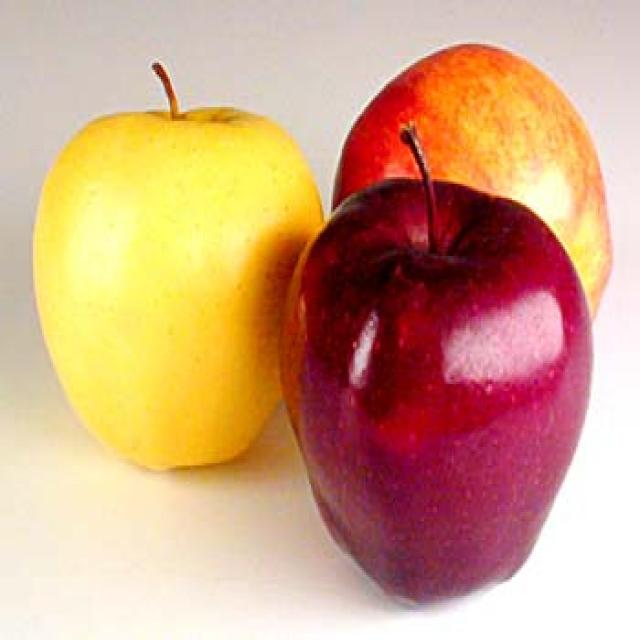apple: (283, 143, 589, 608)
